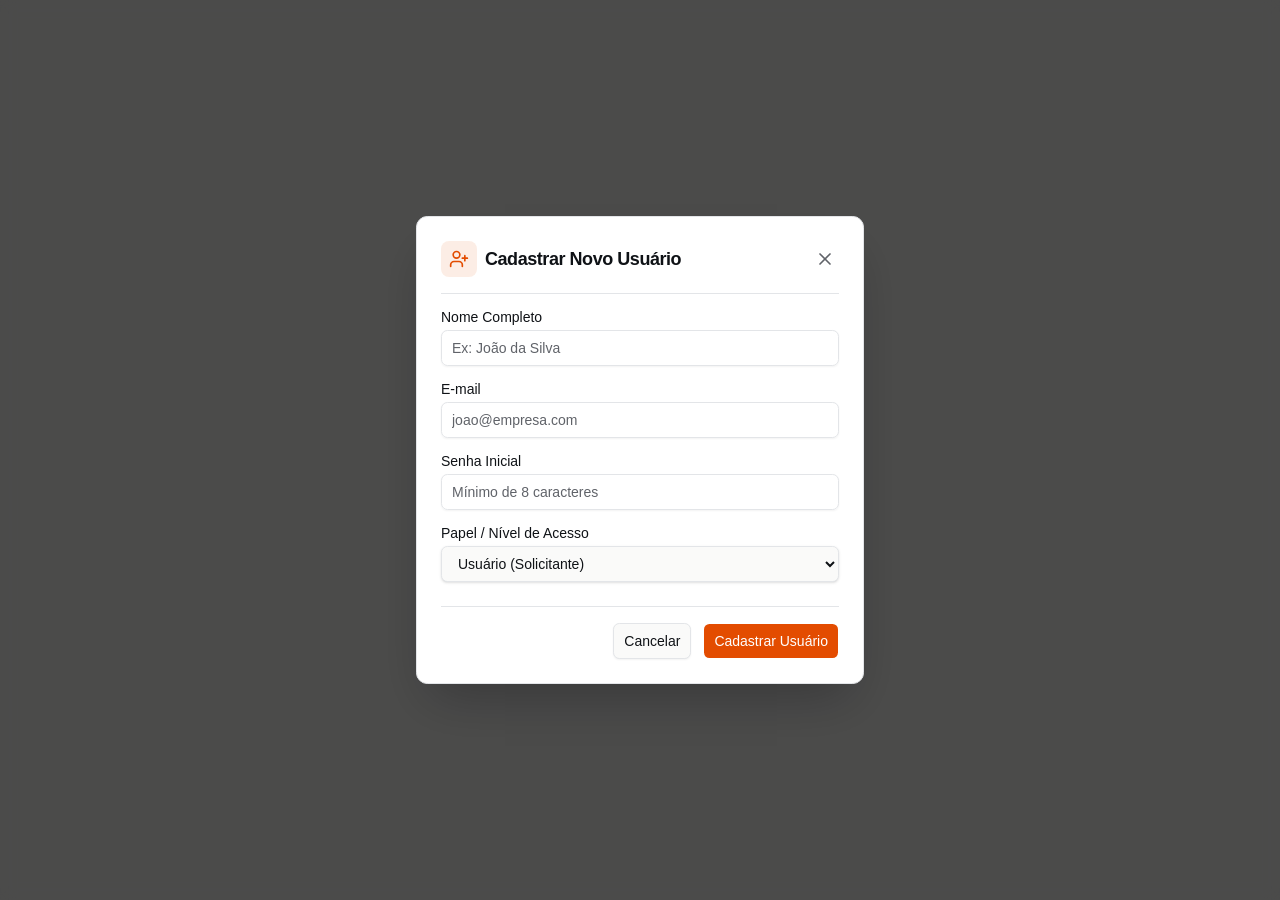
CreateUserModal › deve exibir erros de validação quando campos obrigatórios estiverem vazios
Step 1. Click the button "Cadastrar Usuário" → (771, 641), box [703,623,839,659]
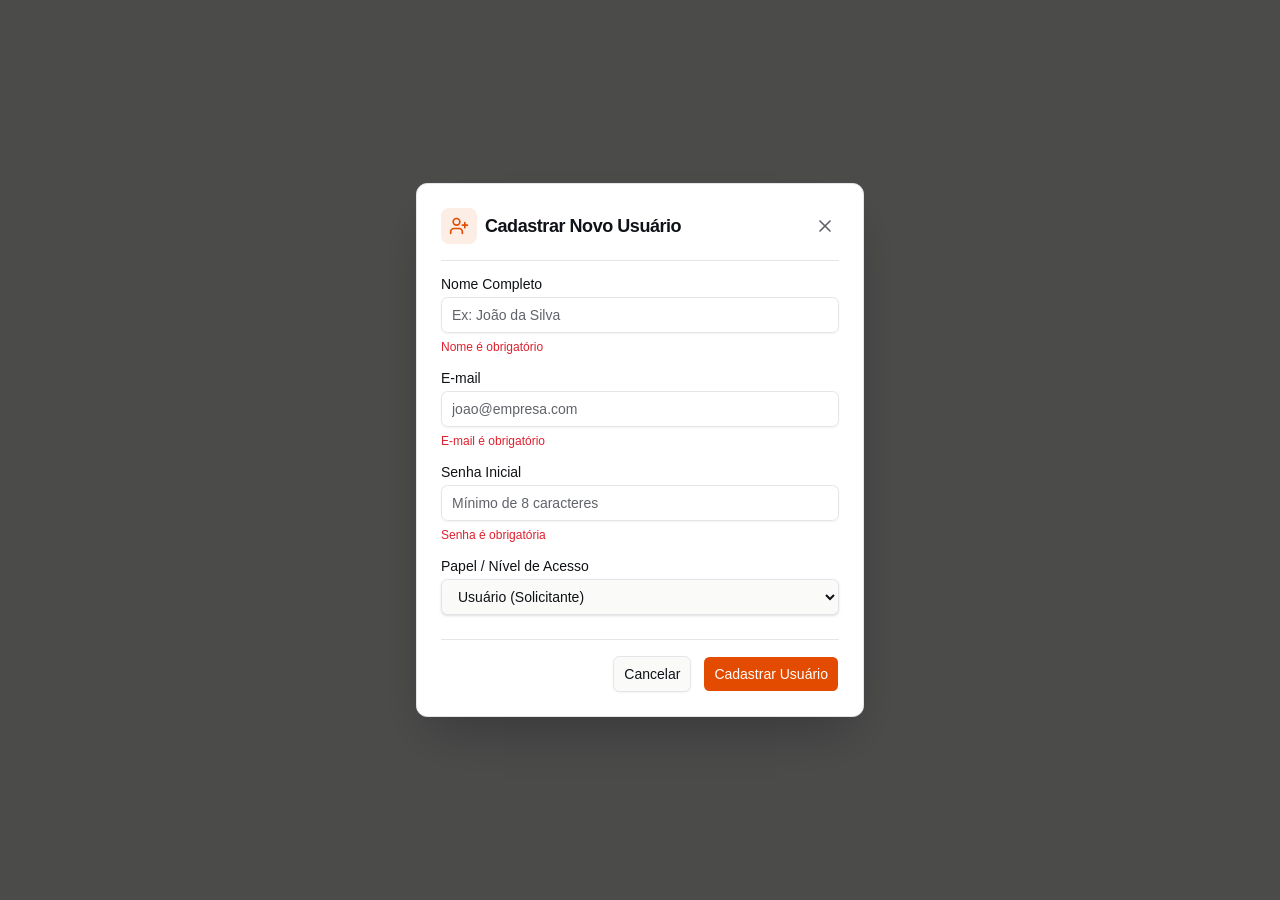
Expected: the text "Nome é obrigatório" is shown, [441,340,543,354]
Expected: the text "E-mail é obrigatório" is shown, [441,434,545,448]
Expected: the text "Senha é obrigatória" is shown, [441,528,546,542]
